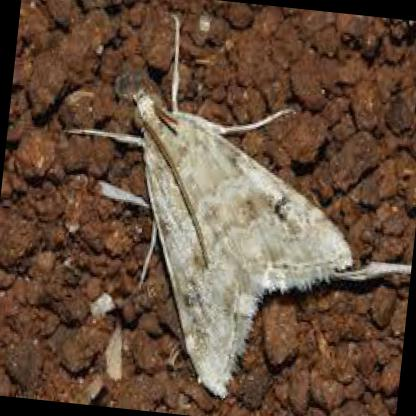Hellula undalis: (60, 5, 360, 398)
